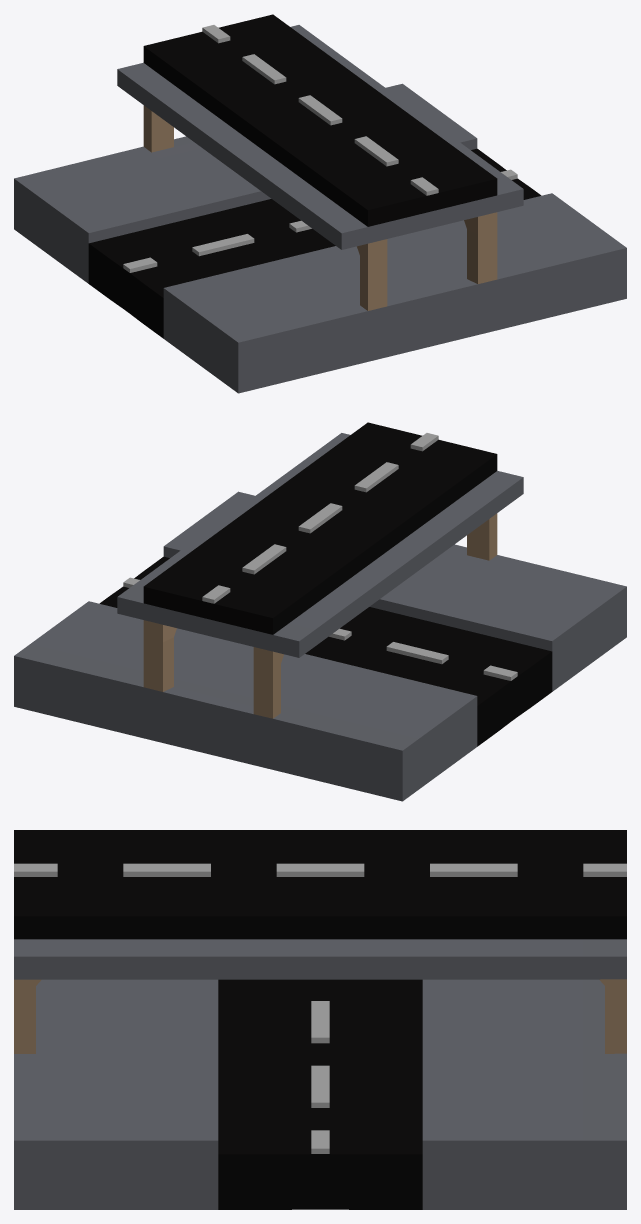
The model's file is Street_Bridge_Underpass.glb.
The picture shows the model from 3 angles, top to bottom: view 1: azimuth 30°, elevation 25°; view 2: azimuth 150°, elevation 25°; view 3: azimuth 270°, elevation 25°; orthographic projection. The views are drawn at different scales.
Visible parts, largest first — view 1: Street_Bridge_Underpass; view 2: Street_Bridge_Underpass; view 3: Street_Bridge_Underpass.
Part boxes in pixels (<box>): Street_Bridge_Underpass: <box>14,14,626,393</box>; Street_Bridge_Underpass: <box>14,422,626,801</box>; Street_Bridge_Underpass: <box>14,830,626,1209</box>.
Size of the model in its own units: 2 by 0.7659 by 2.
